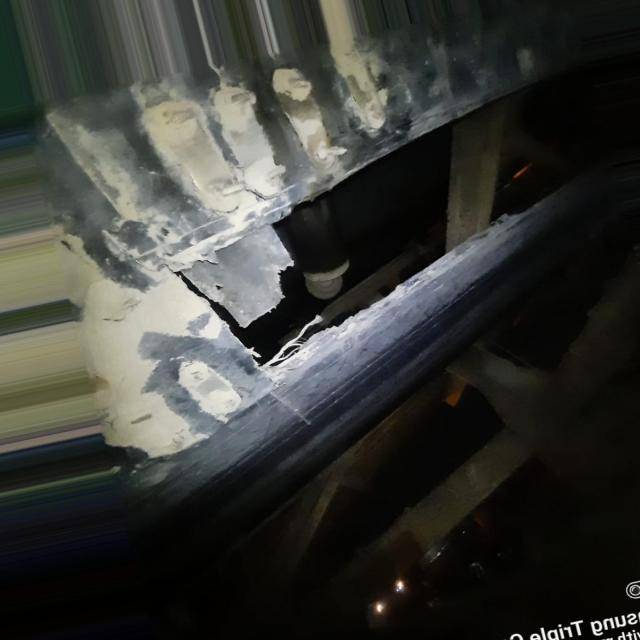Hole: (182, 31, 640, 368)
